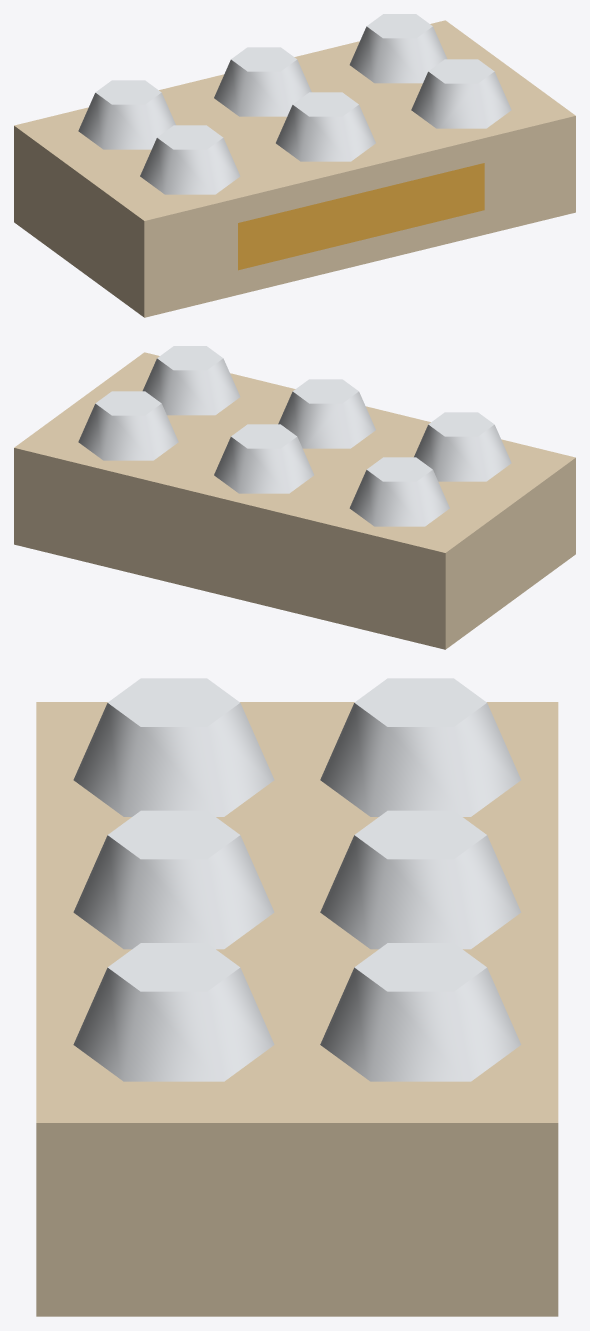
Rendered from CM_Product_EggCarton.fbx.
3 renders of one model, top to bottom at view 1: azimuth 30°, elevation 25°; view 2: azimuth 150°, elevation 25°; view 3: azimuth 270°, elevation 25°, orthographic. The views are drawn at different scales.
Parts seen in each view (by area): view 1: EggCarton; view 2: EggCarton; view 3: EggCarton.
Part boxes in pixels (x1,y1,x2,y2): EggCarton: (14, 14, 575, 317); EggCarton: (14, 346, 575, 649); EggCarton: (36, 678, 558, 1316).
Size of the model in its own units: 2.1 by 1.11 by 0.63.
Materials: 1 (1 with a texture image).
